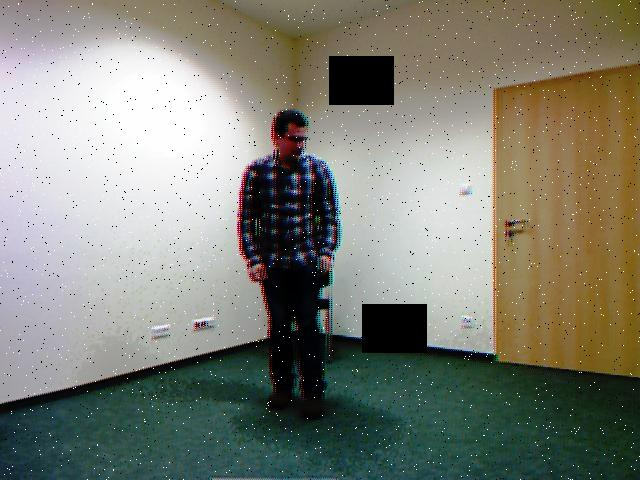standing: (227, 101, 356, 427)
